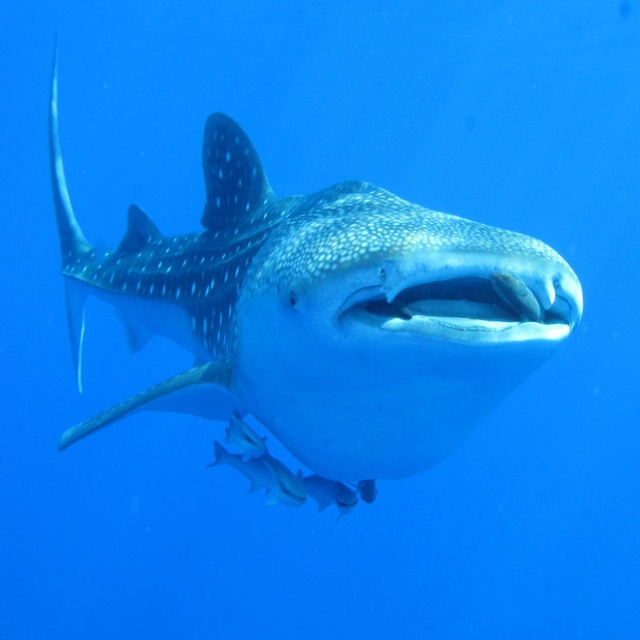Shark: (54, 28, 576, 483)
